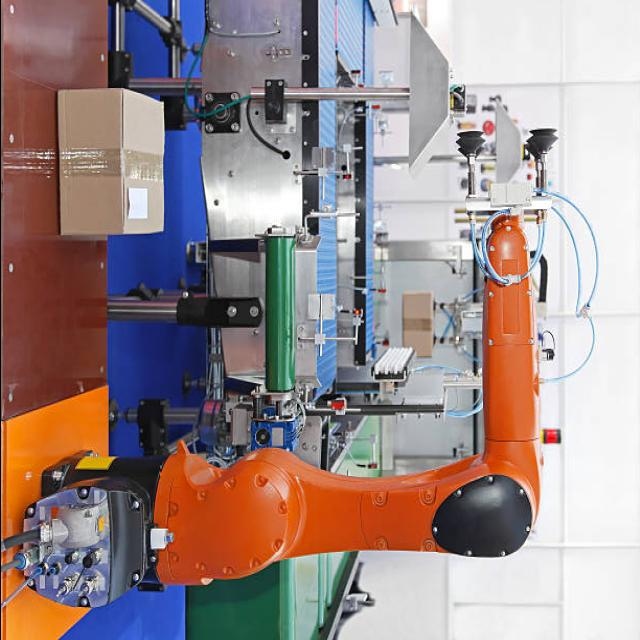Robotic-arm: (142, 196, 548, 570)
